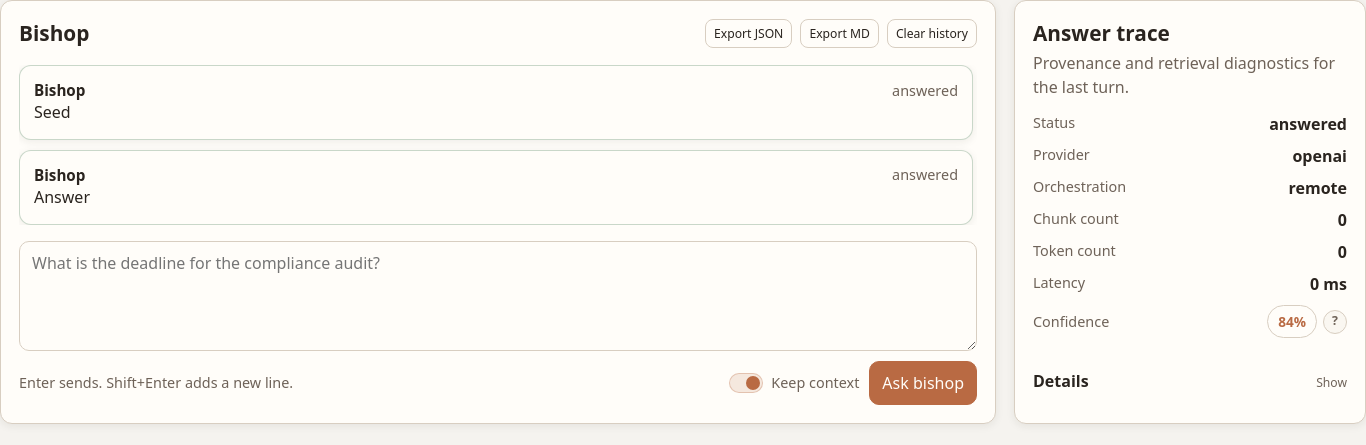
it: BishopPanel confidence trace › reveals the improvement hint from the adjacent help button on hover
Expected: the text "A more specific document title or site name would improve the response." is not shown
Hover over the button named "Show improvement hint" at (1335, 322), box left=1323, top=310, right=1347, bottom=334
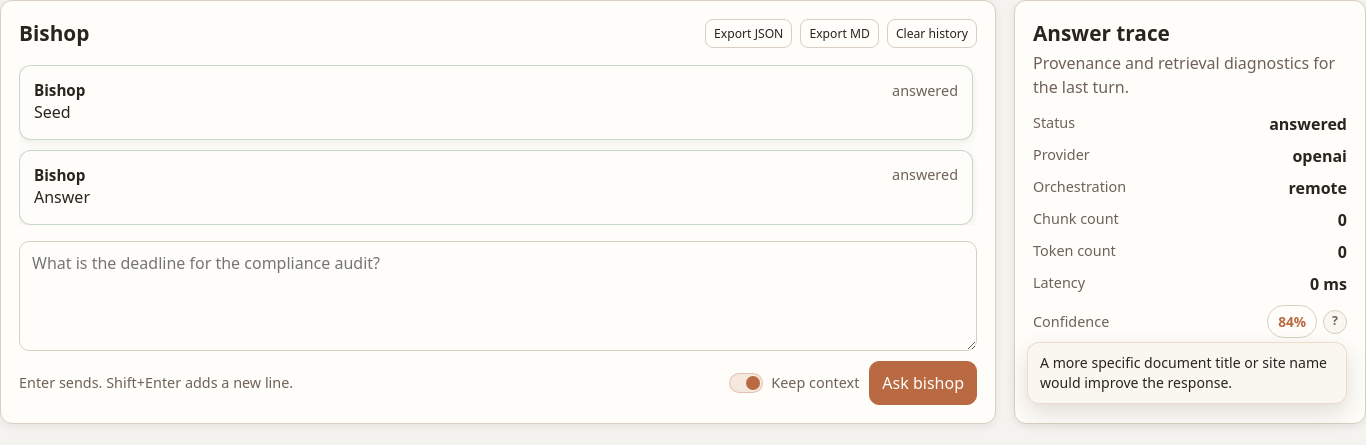
Expected: the tooltip "A more specific document title or site name would improve the response." is shown, left=1027, top=342, right=1347, bottom=404
Move the pointer off the button named "Show improvement hint", box left=1323, top=310, right=1347, bottom=334
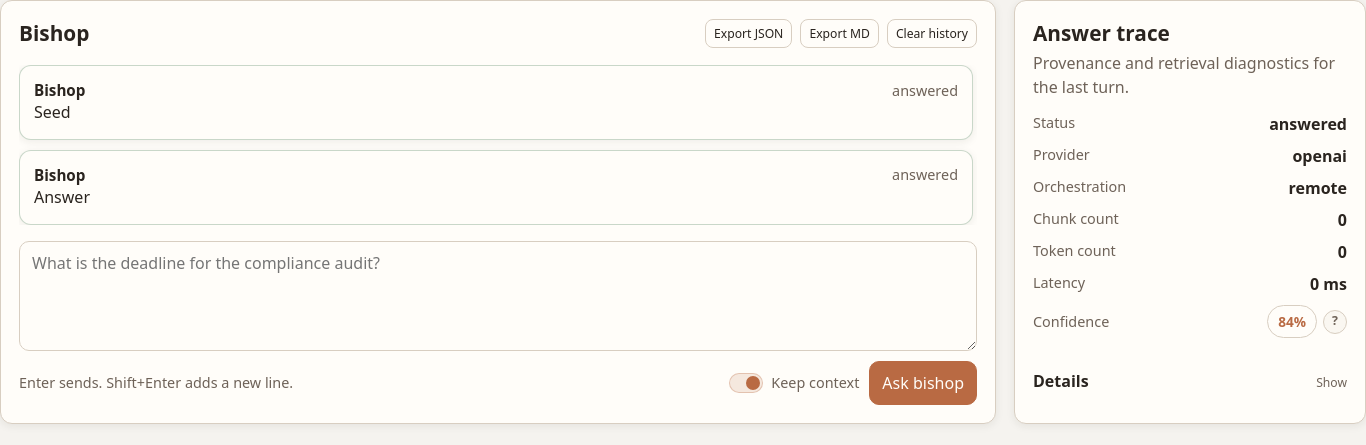
Expected: the tooltip "A more specific document title or site name would improve the response." is gone
